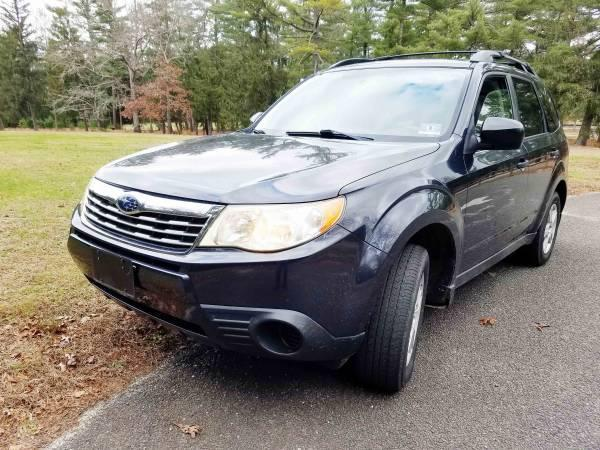Front_Bumper: (65, 214, 387, 374)
Front_Fender: (338, 134, 465, 297)
Front_Left_Door: (462, 139, 525, 282)
Front_Left_Window: (467, 75, 523, 156)
Front_Windshield: (250, 67, 473, 143)
Grille: (78, 181, 225, 257)
Hood: (90, 132, 433, 205)
Left_Headlight: (198, 194, 347, 250)
Rear_Fender: (534, 80, 569, 195)
Rear_Left_Door: (519, 130, 555, 250)
Rear_Left_Window: (511, 78, 546, 139)
Roof: (323, 54, 544, 137)
Wheel: (368, 239, 433, 393), (538, 194, 561, 261)
